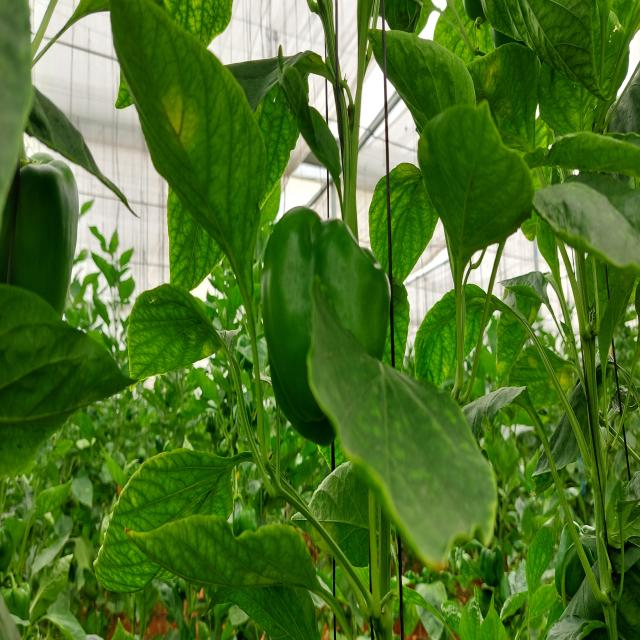Green--Not-ready-to-harvest: (264, 211, 394, 445), (0, 154, 72, 356)
